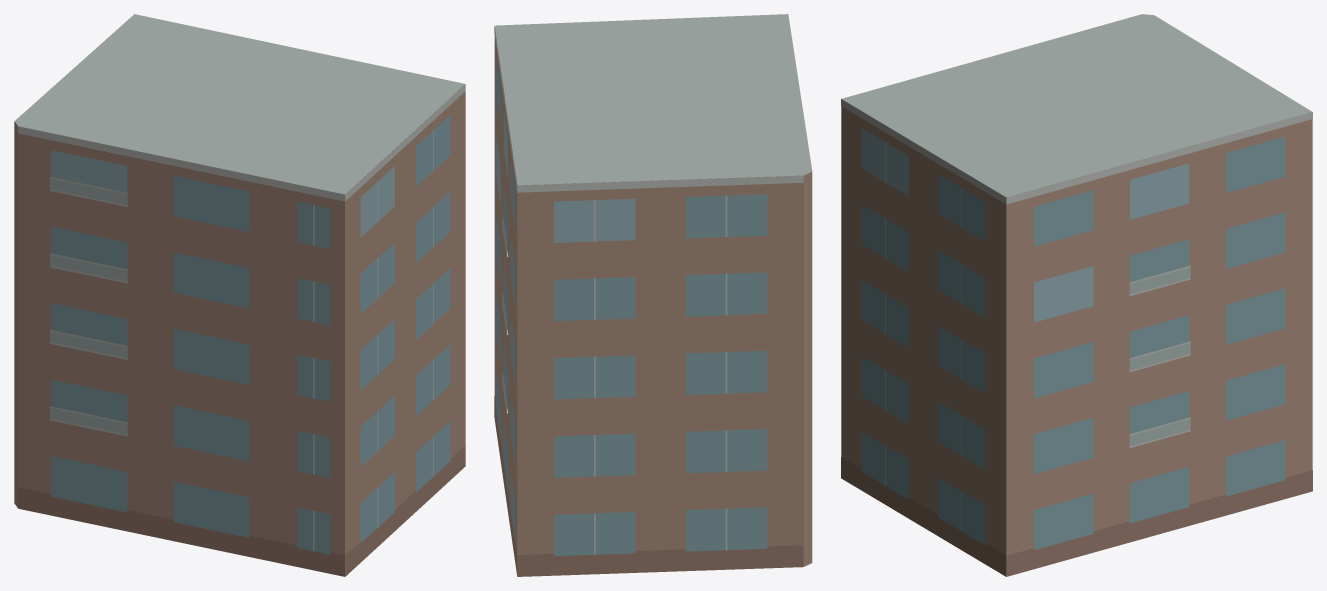
Rendered from survey-upis-32690990.glb.
The picture shows the model from 3 angles, left to right: view 1: azimuth 30°, elevation 25°; view 2: azimuth 150°, elevation 25°; view 3: azimuth 270°, elevation 25°; orthographic projection. The views are drawn at different scales.
Visible parts, largest first — view 1: survey-upis-32690990.tmp; view 2: survey-upis-32690990.tmp; view 3: survey-upis-32690990.tmp.
Boxes of the visible parts, <box> form: survey-upis-32690990.tmp: <box>14,14,465,576</box>; survey-upis-32690990.tmp: <box>494,14,812,576</box>; survey-upis-32690990.tmp: <box>841,14,1312,576</box>.
Size of the model in its own units: 13.6 by 13.1 by 14.77.
